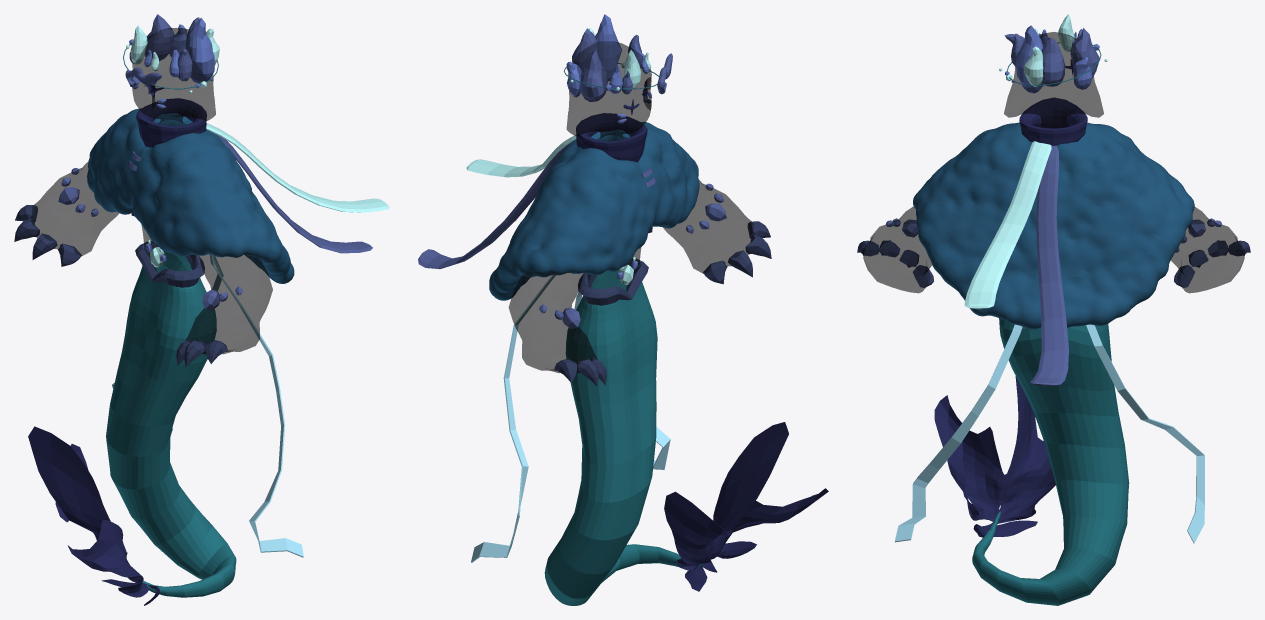
The model's file is sadavia_tail2  remodeling test.fbx.
3 renders of one model, left to right at view 1: azimuth 30°, elevation 25°; view 2: azimuth 150°, elevation 25°; view 3: azimuth 270°, elevation 25°, orthographic.
Visible parts, largest first — view 1: tail, Mball, Cube_001, tail_detail, body, Cube_007, Plane_001, Plane, Plane_003, Plane_002, tail_start, Cube_011 (+2 smaller); view 2: tail, Mball, Cube_001, tail_detail, body, Plane, Cube_007, Plane_001, Plane_002, tail_start, Plane_003, Cube_009 (+3 smaller); view 3: Mball, tail, tail_detail, Cube_001, Plane_002, Plane, body, Plane_003, Plane_001, Cube_007, Cube_013, Cube_011 (+3 smaller).
Boxes of the visible parts, x1,y1,x2,y2 form: tail: (106,252,236,597); Mball: (87,108,294,283); Cube_001: (31,162,272,354); tail_detail: (28,426,159,605); body: (132,28,215,273); Cube_007: (14,205,227,367); Plane_001: (136,98,206,147); Plane: (112,254,303,557); Plane_003: (206,122,389,212); Plane_002: (216,134,372,253); tail_start: (135,241,204,287); Cube_011: (187,17,214,83); tail: (544,270,703,605); Mball: (489,122,699,300); Cube_001: (508,180,754,373); tail_detail: (664,422,828,591); body: (566,41,651,290); Plane: (471,275,670,562); Cube_007: (554,221,771,386); Plane_001: (576,113,647,162); Plane_002: (418,139,575,269); tail_start: (578,258,648,305); Plane_003: (466,135,576,177); Cube_009: (580,49,607,101); Mball: (913,122,1194,329); tail: (972,318,1129,605); tail_detail: (934,376,1055,537); Cube_001: (862,206,1245,293); Plane_002: (1030,145,1068,386); Plane: (894,324,1204,543); body: (1004,32,1103,128); Plane_003: (964,141,1051,309); Plane_001: (1019,97,1087,145); Cube_007: (857,240,1250,287); Cube_013: (1041,37,1065,86); Cube_011: (1015,25,1043,93).
Size of the model in its own units: 766 by 1190 by 742.
